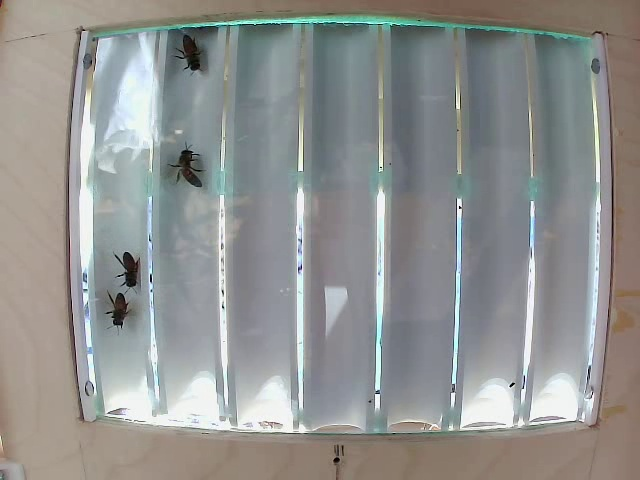bee: (169, 134, 210, 193), (172, 34, 220, 78), (112, 247, 156, 292), (100, 285, 134, 337)
